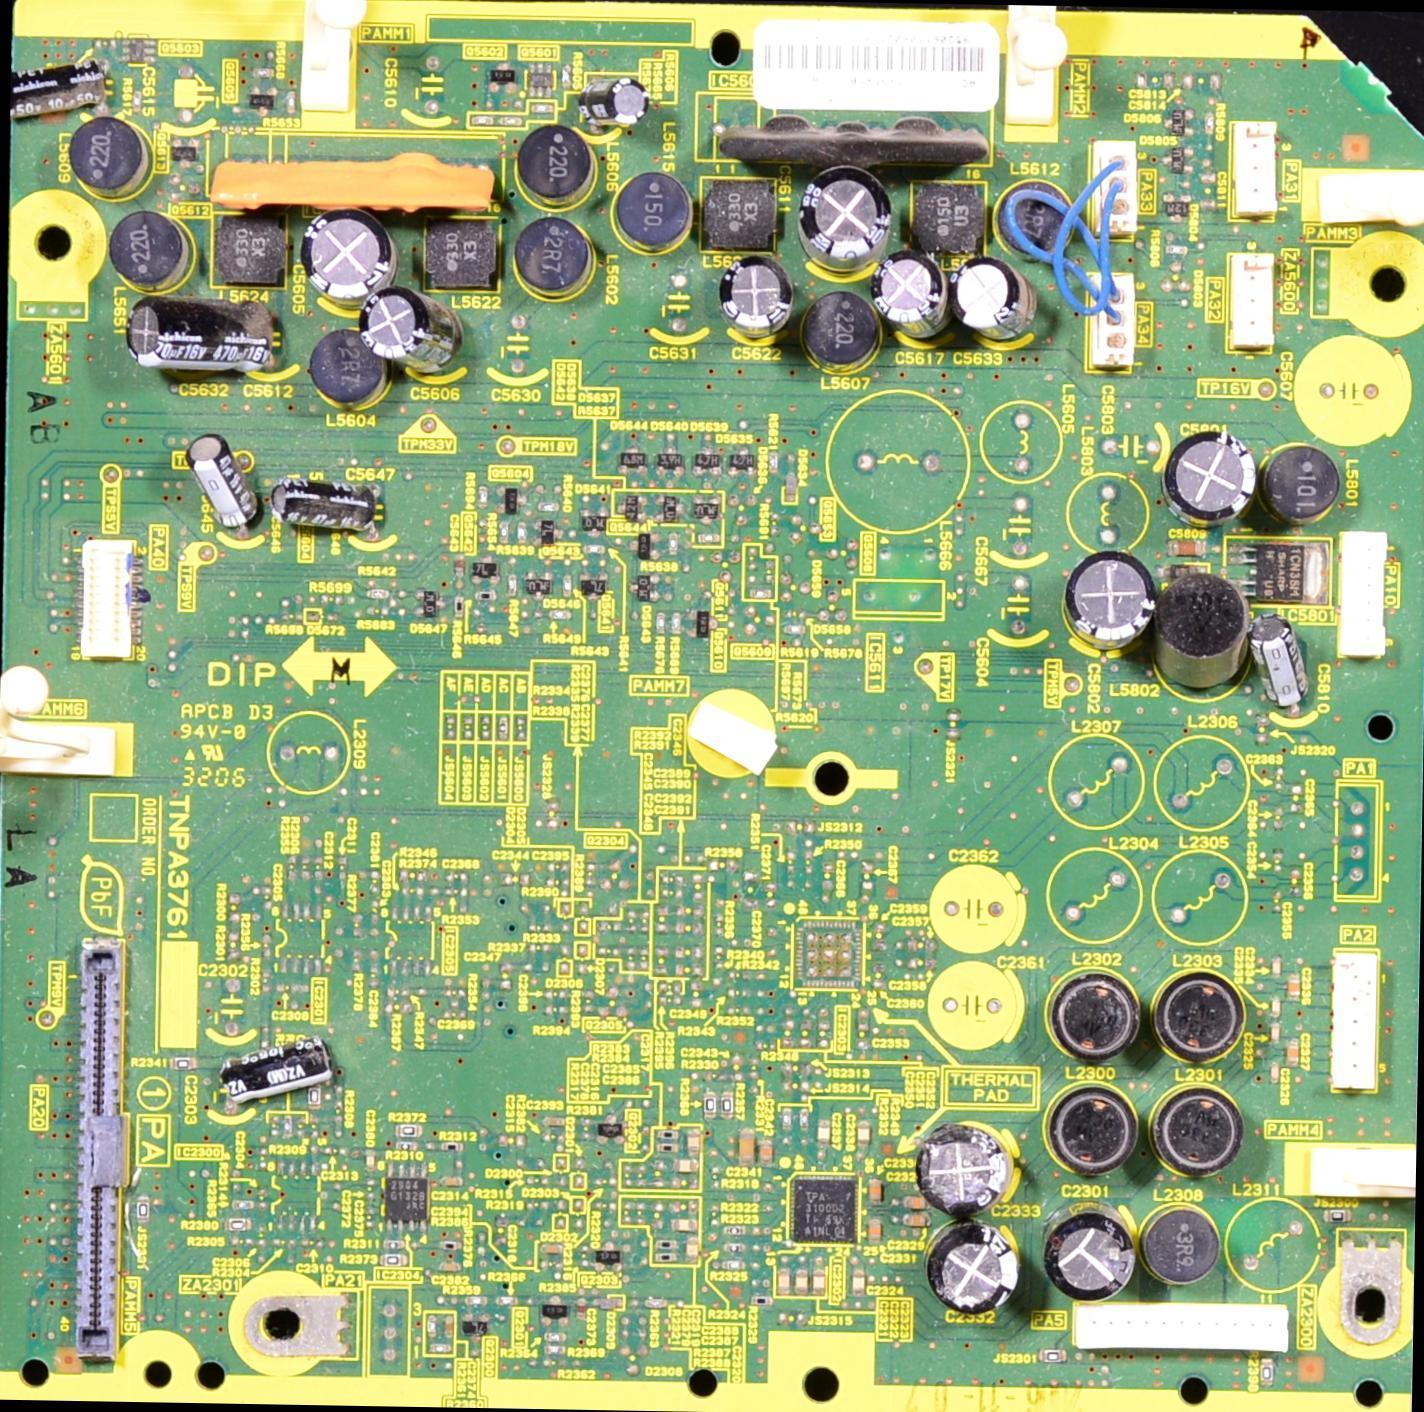Capacitor: (125, 299, 295, 384), (1043, 1203, 1141, 1297), (913, 1123, 1013, 1213), (929, 1224, 1024, 1318), (1071, 546, 1148, 656), (365, 285, 455, 377), (313, 205, 394, 305), (799, 166, 887, 256), (191, 438, 268, 540), (209, 1042, 338, 1103), (1251, 617, 1318, 712), (10, 61, 105, 128), (1174, 418, 1236, 518), (715, 262, 793, 342), (960, 268, 1042, 341), (274, 487, 393, 531), (885, 260, 946, 329), (1097, 421, 1177, 471), (492, 309, 534, 386), (664, 263, 695, 338), (1166, 536, 1209, 557), (739, 1130, 758, 1165), (849, 1268, 868, 1298), (774, 1268, 791, 1299), (903, 1211, 934, 1228), (812, 1268, 829, 1299), (1285, 1039, 1302, 1069), (902, 1194, 928, 1210), (867, 1220, 882, 1249), (538, 1240, 566, 1256), (796, 1268, 810, 1298), (818, 1120, 833, 1147), (687, 1128, 702, 1155), (683, 1237, 699, 1265), (672, 1217, 697, 1234), (859, 1121, 873, 1149), (868, 1178, 881, 1208), (759, 1141, 775, 1165), (675, 1157, 699, 1173), (440, 1175, 461, 1192), (1267, 1063, 1283, 1085), (455, 553, 468, 579), (1288, 976, 1301, 1001), (439, 1260, 461, 1273), (542, 1116, 567, 1127), (444, 1316, 455, 1339), (1271, 955, 1282, 979), (366, 1149, 376, 1170), (577, 1296, 586, 1319), (1271, 997, 1281, 1019), (1272, 1022, 1281, 1043)
Connector: (72, 938, 137, 1371), (69, 536, 155, 665), (1071, 1307, 1301, 1349), (1329, 948, 1382, 1092), (1339, 530, 1387, 650)
IC: (792, 1171, 862, 1242), (383, 1161, 430, 1229)
Resistor: (220, 1217, 255, 1233), (397, 1122, 427, 1140), (505, 571, 523, 601), (546, 607, 574, 623), (514, 520, 530, 546), (379, 1253, 410, 1266), (495, 522, 512, 546), (561, 64, 575, 90), (169, 1058, 199, 1070), (232, 1199, 258, 1213), (537, 501, 562, 514), (561, 572, 574, 600), (365, 587, 391, 601), (583, 543, 606, 558), (722, 1091, 734, 1119), (642, 1297, 669, 1310), (281, 1116, 295, 1140), (439, 1141, 463, 1155), (250, 65, 274, 79), (395, 1140, 420, 1153), (365, 605, 390, 618), (1162, 243, 1190, 255), (703, 1094, 717, 1119), (719, 1260, 744, 1272), (542, 1343, 567, 1356), (782, 1108, 794, 1134), (286, 91, 299, 114), (439, 1240, 464, 1252), (381, 1240, 407, 1252), (496, 1295, 519, 1308), (472, 589, 496, 602), (498, 115, 522, 127), (724, 1225, 746, 1237), (751, 1295, 774, 1308), (655, 613, 667, 635), (768, 448, 779, 474), (655, 1239, 678, 1250), (723, 1242, 746, 1254), (659, 1143, 682, 1155), (654, 1252, 677, 1263), (466, 1294, 488, 1306), (478, 486, 490, 508), (799, 1108, 809, 1135), (656, 1131, 679, 1142), (530, 104, 554, 114), (1204, 112, 1215, 136), (471, 115, 494, 125), (428, 1315, 438, 1338), (428, 1342, 452, 1352), (544, 1334, 570, 1343), (133, 90, 144, 113), (698, 533, 720, 543), (453, 597, 464, 617), (786, 624, 806, 636), (750, 589, 773, 599), (673, 613, 681, 635)
Transistor: (594, 1239, 627, 1277), (537, 1293, 573, 1328), (594, 1110, 623, 1147), (460, 1312, 488, 1347), (525, 62, 555, 93), (123, 40, 160, 64), (173, 137, 200, 168), (491, 63, 518, 94), (248, 89, 272, 119)
